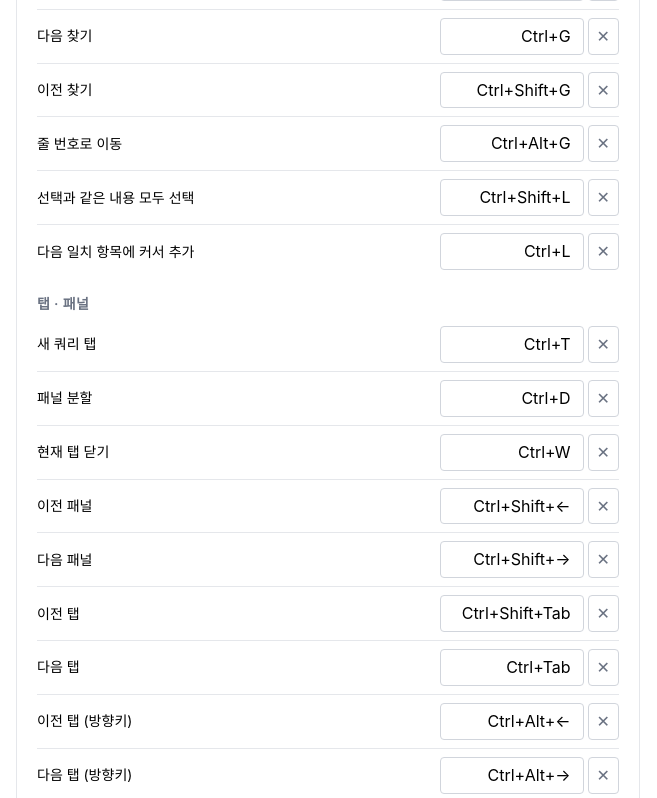
Test: Backspace while recording clears the shortcut
The image size is (657, 798).
(page scrolled)
Click the button with aria-label "패널 분할 단축키" at (512, 398), box top-left (440, 380), bottom-right (584, 417)
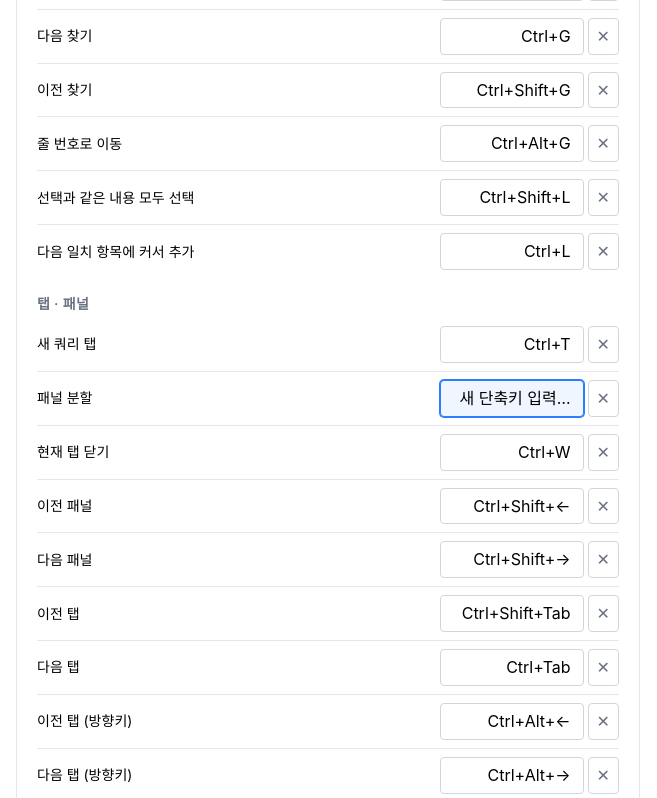
Press Backspace
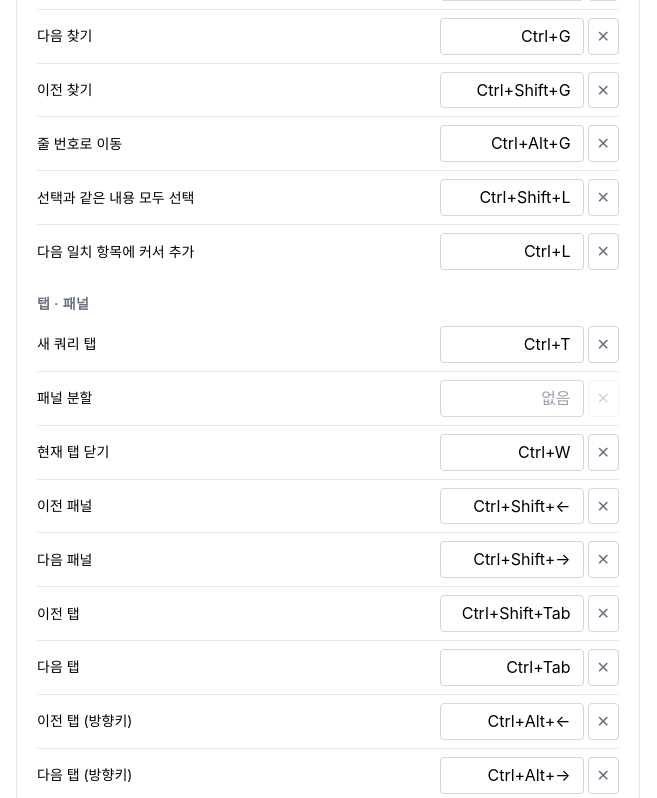
Expected: the button with aria-label "패널 분할 단축키" reads "없음", top-left (440, 380), bottom-right (584, 417)
